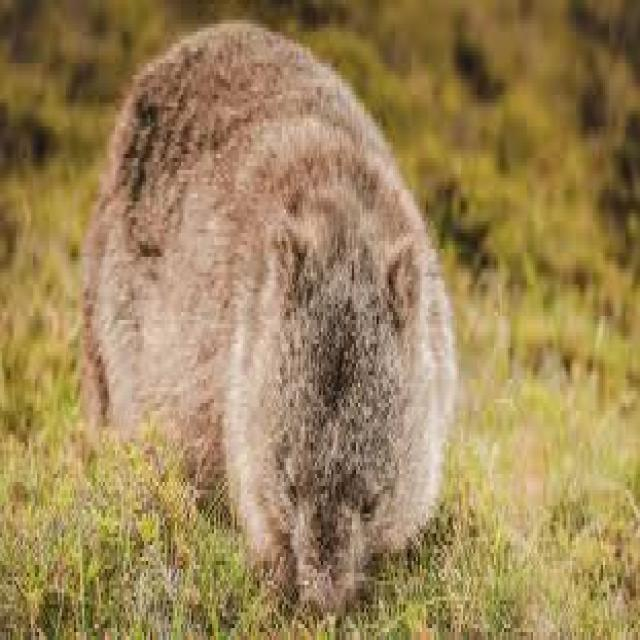Wombat: (78, 19, 460, 606)
